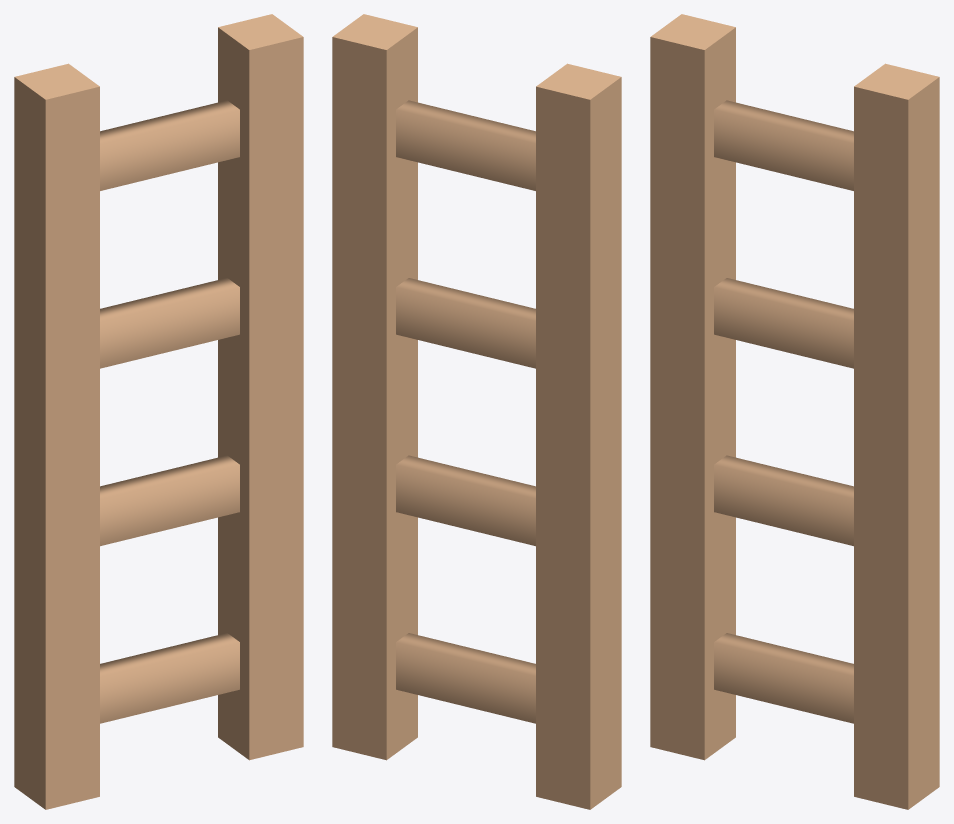
3 views of the same model, side by side, from view 1: azimuth 30°, elevation 25°; view 2: azimuth 150°, elevation 25°; view 3: azimuth 330°, elevation 25° (orthographic).
Parts seen in each view (by area): view 1: ladder; view 2: ladder; view 3: ladder.
Boxes of the visible parts, x1,y1,x2,y2 form: ladder: (14, 14, 303, 809); ladder: (332, 14, 621, 809); ladder: (650, 14, 939, 809).
Size of the model in its own units: 0.38 by 1 by 0.08.
